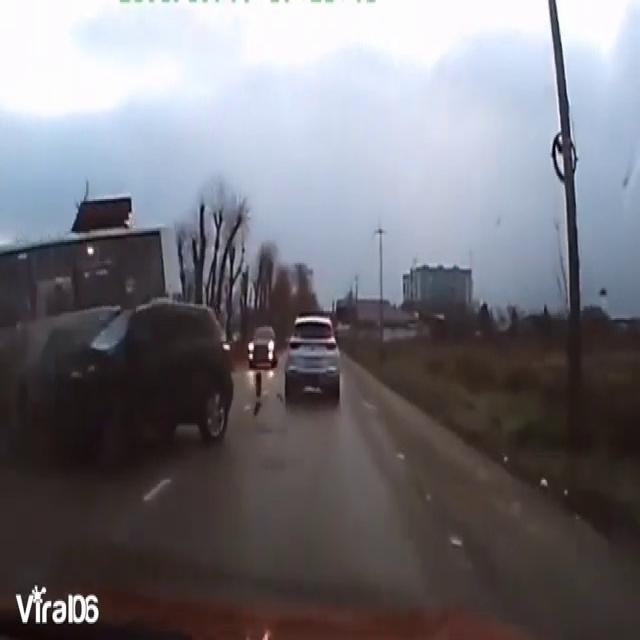moderate: (0, 190, 234, 480)
